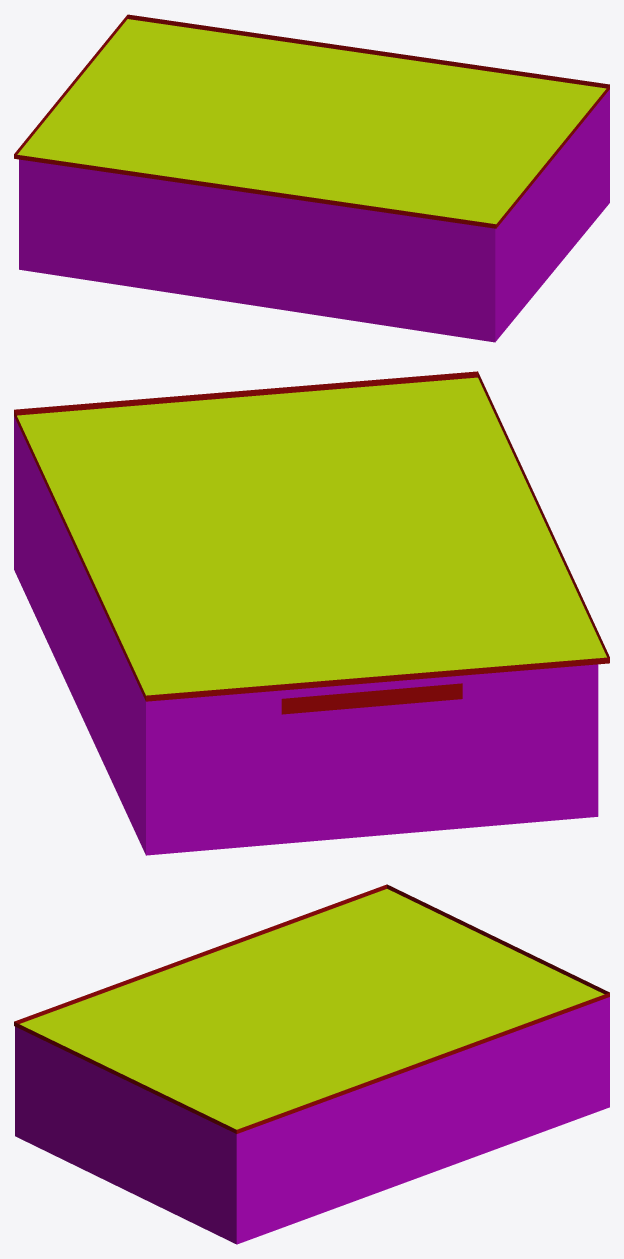
The picture shows the model from 3 angles, top to bottom: view 1: azimuth 30°, elevation 25°; view 2: azimuth 150°, elevation 25°; view 3: azimuth 270°, elevation 25°; orthographic projection. The views are drawn at different scales.
Parts seen in each view (by area): view 1: sc_22; view 2: sc_22; view 3: sc_22.
Boxes of the visible parts, <box> form: sc_22: <box>14,14,609,342</box>; sc_22: <box>14,371,609,855</box>; sc_22: <box>14,884,609,1244</box>.
Size of the model in its own units: 42.06 by 9.18 by 43.16.
